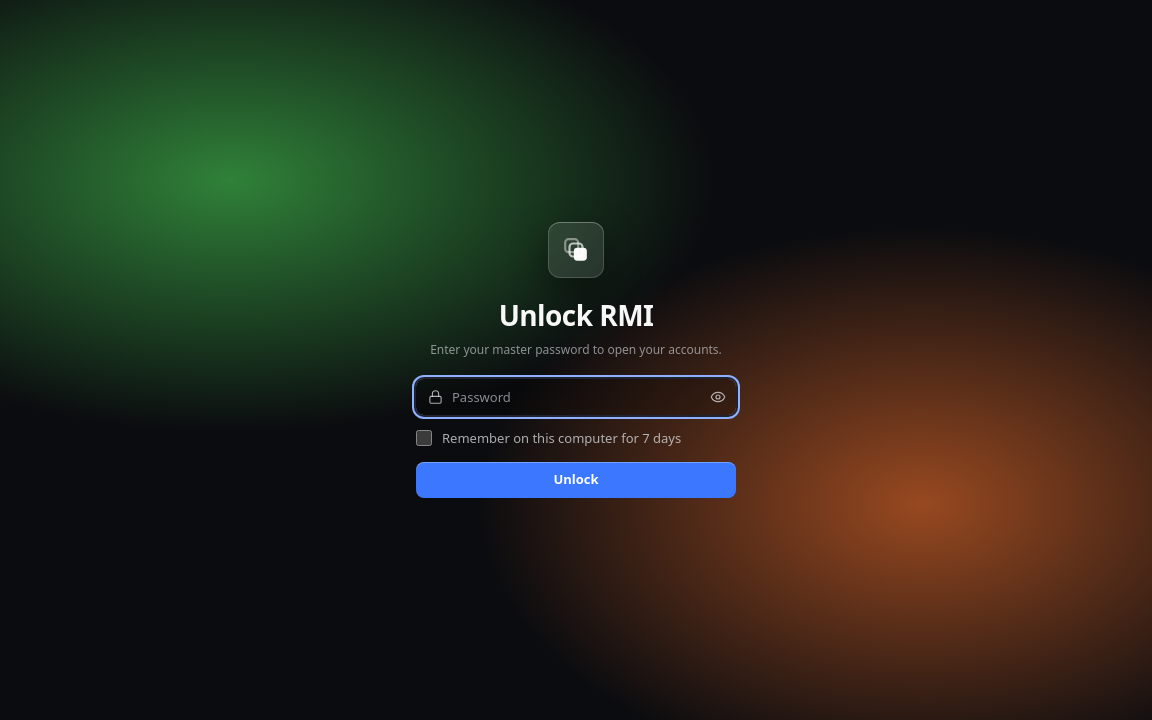
Test: an empty password is refused inline without calling the vault
The image size is (1152, 720).
Click the button "Unlock": (576, 480) left=416, top=462, right=736, bottom=498
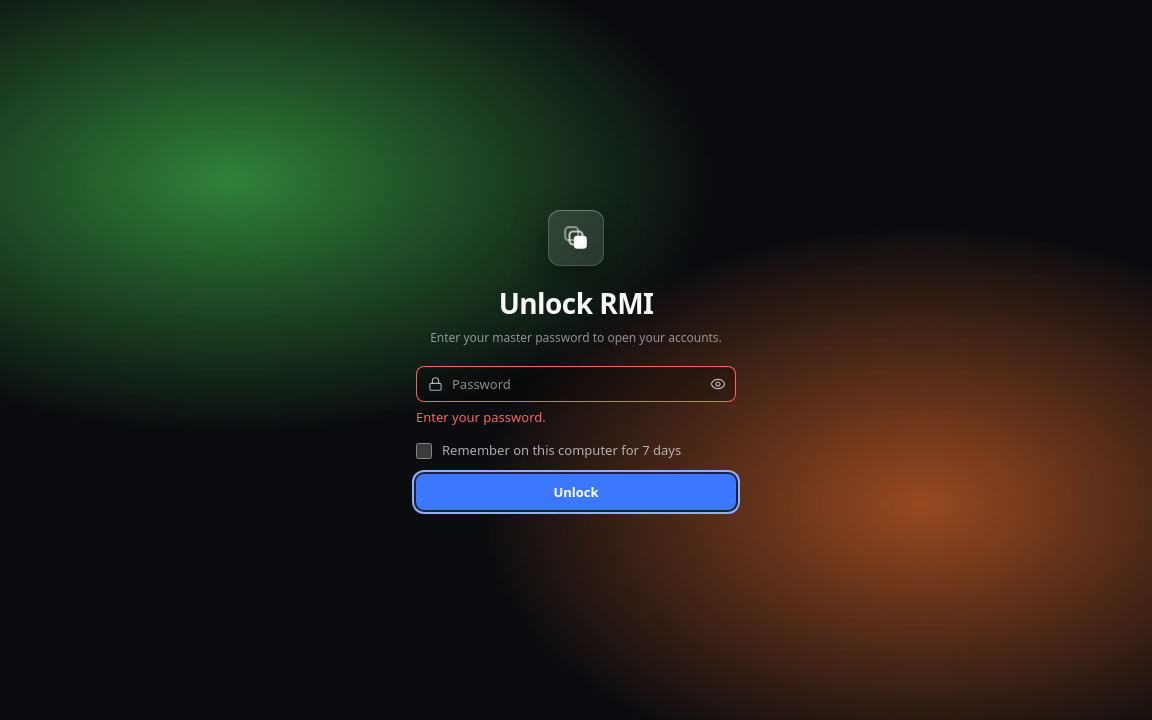
Check: the text "Enter your password." is shown, box left=416, top=408, right=546, bottom=426
